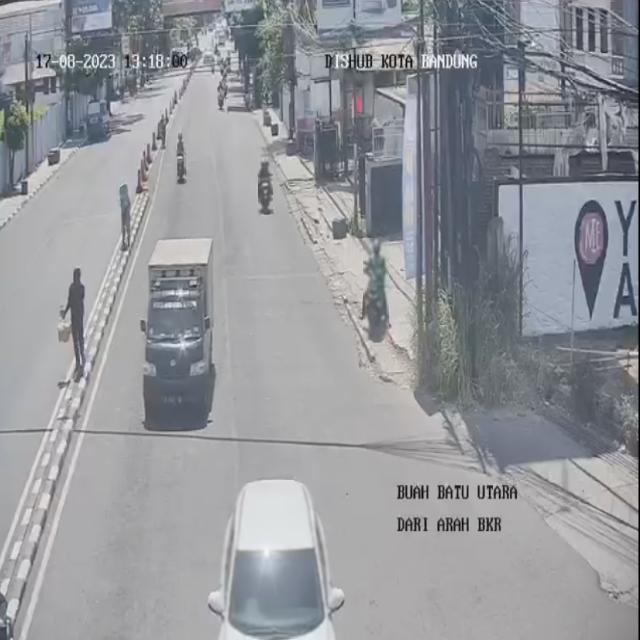cars: (216, 484, 337, 639)
motorcycle: (363, 238, 389, 339), (259, 158, 272, 213), (178, 133, 185, 182), (217, 81, 225, 111), (221, 74, 227, 97)
truck: (142, 237, 214, 425)
